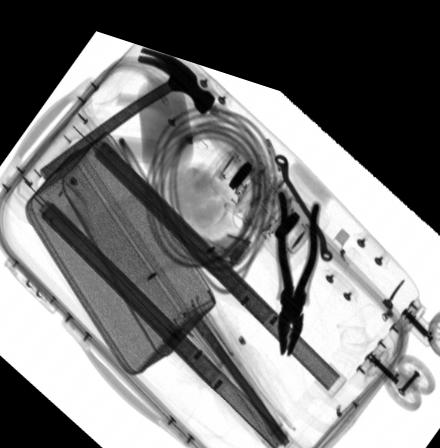Hammer: (37, 36, 215, 180)
Pliers: (272, 169, 322, 340)
Wrench: (274, 134, 332, 240)
